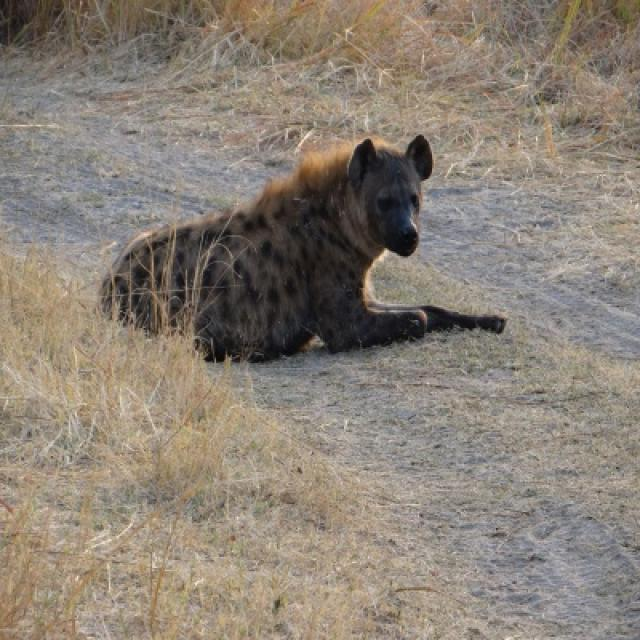hyena: (101, 136, 482, 365)
